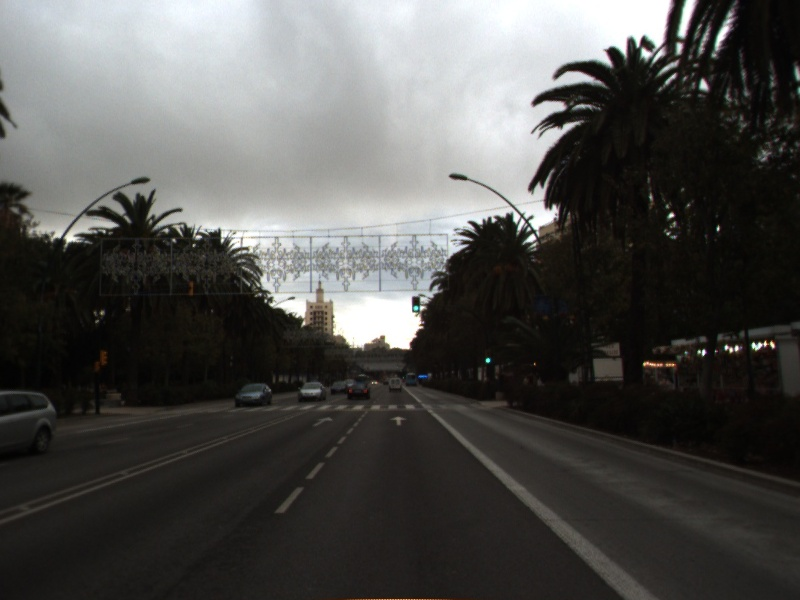STRAIGHT: (310, 415, 335, 429), (388, 414, 409, 427)
